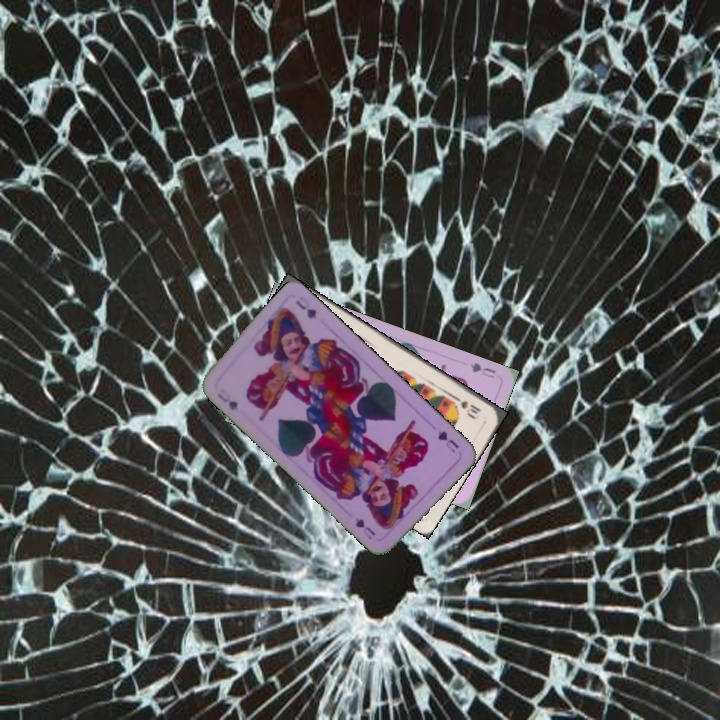GU: (434, 427, 462, 455), (466, 358, 498, 381), (213, 389, 241, 413)
S10: (450, 392, 483, 421)
